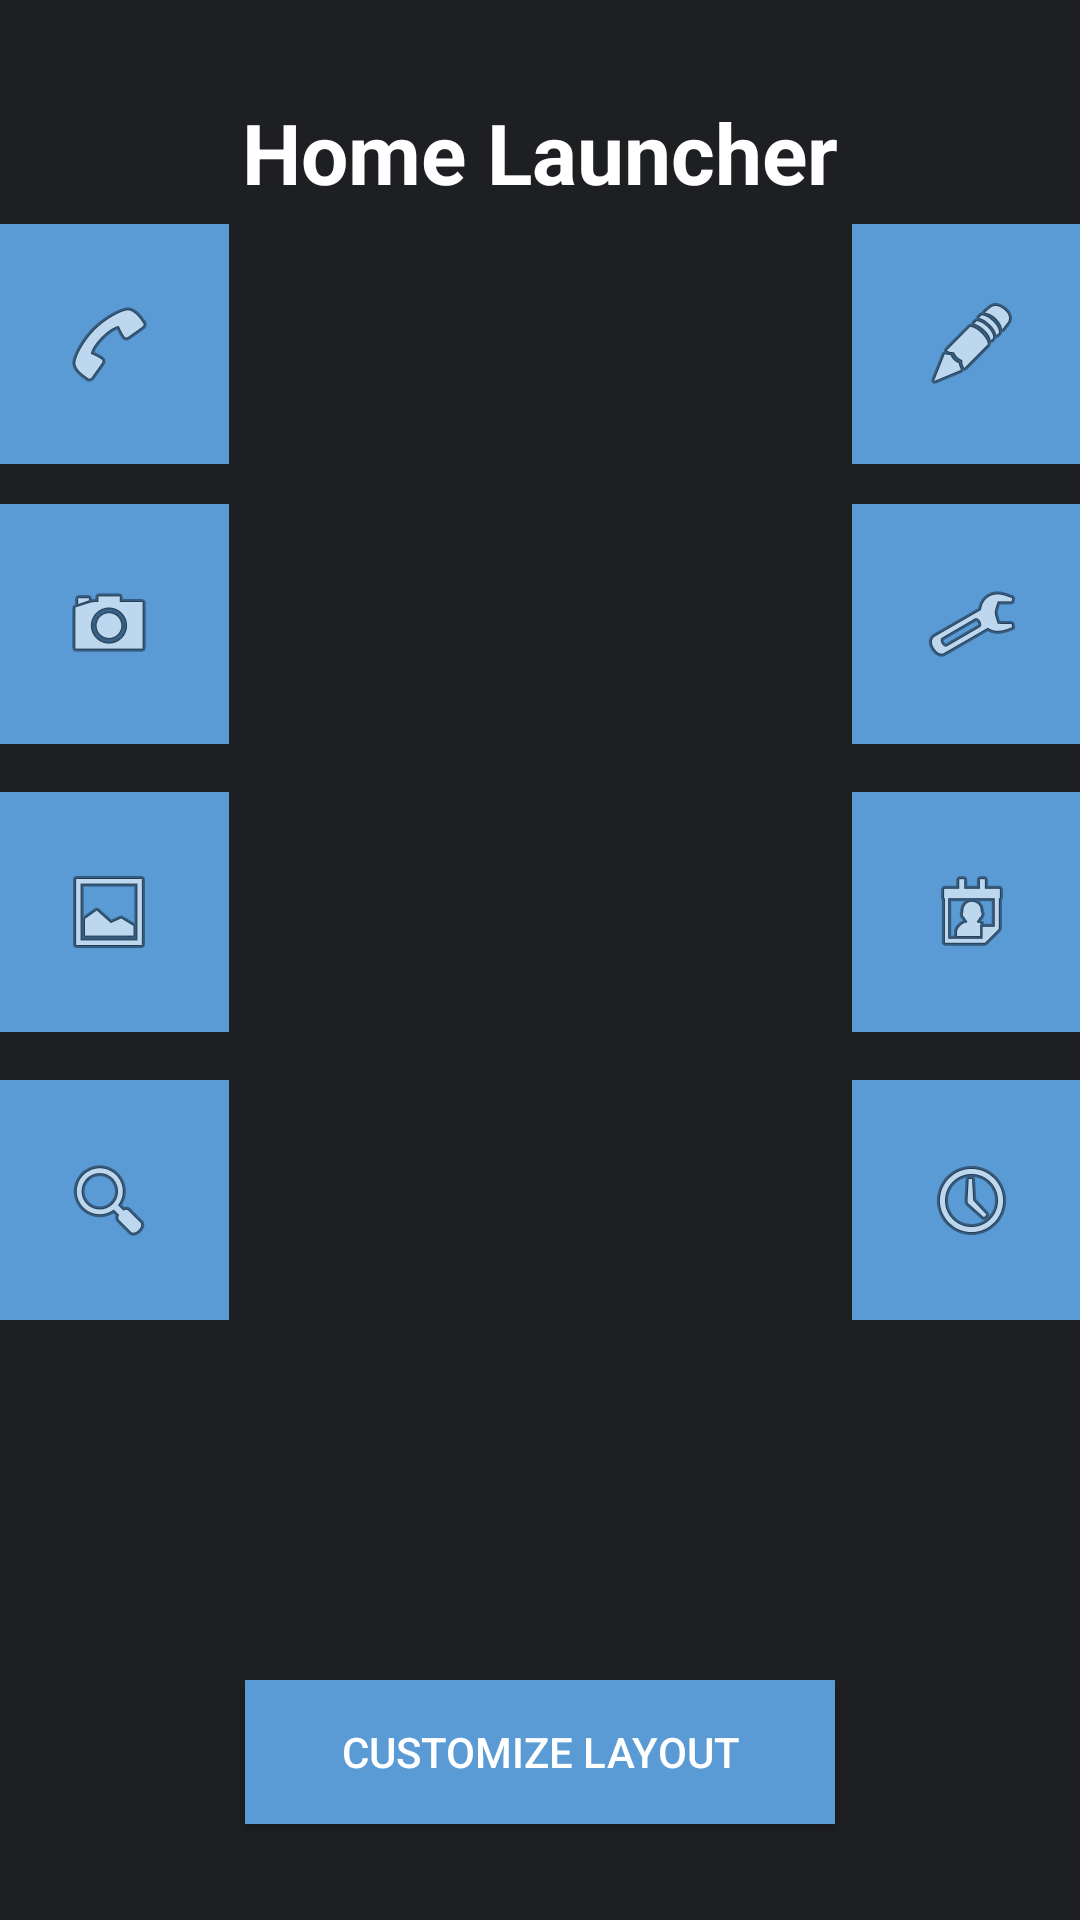

Screen size 1080*1920. Icon name, then its box in pixels as (left=x1, top=y1, right=x2, bottom=y2):
calendar: (left=852, top=792, right=1080, bottom=1032)
call: (left=0, top=224, right=229, bottom=464)
camera: (left=0, top=504, right=229, bottom=744)
edit: (left=852, top=224, right=1080, bottom=464)
gallery: (left=0, top=792, right=229, bottom=1032)
preferences: (left=852, top=504, right=1080, bottom=744)
recent history: (left=852, top=1080, right=1080, bottom=1320)
search: (left=0, top=1080, right=229, bottom=1320)
